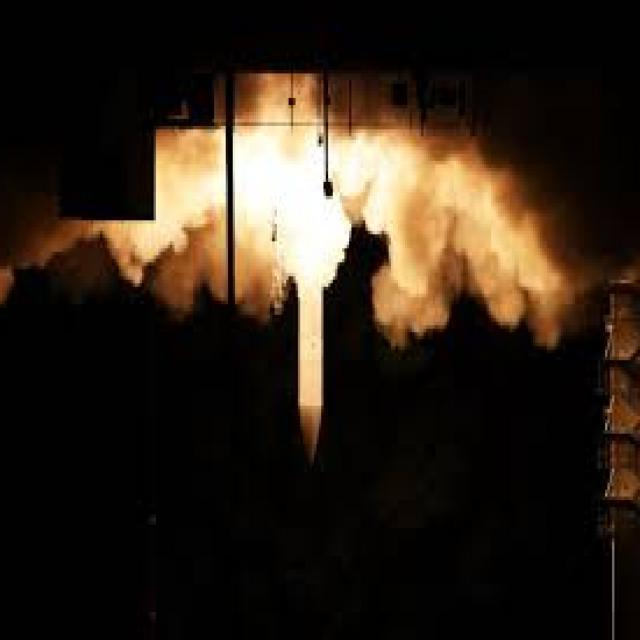Missile: (294, 272, 328, 461)
